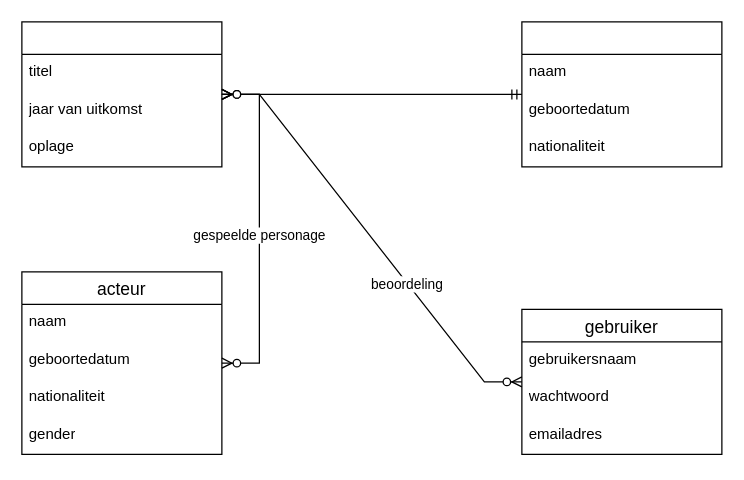
Image size: 744x480. Some labels were removed from this diagram. The shapes that lost their labels are listed below. From the top down, each one's box as (x1, y1, x2, y2) in pixels, then its label:
(21, 21, 222, 167): film
(521, 21, 722, 167): regisseur
